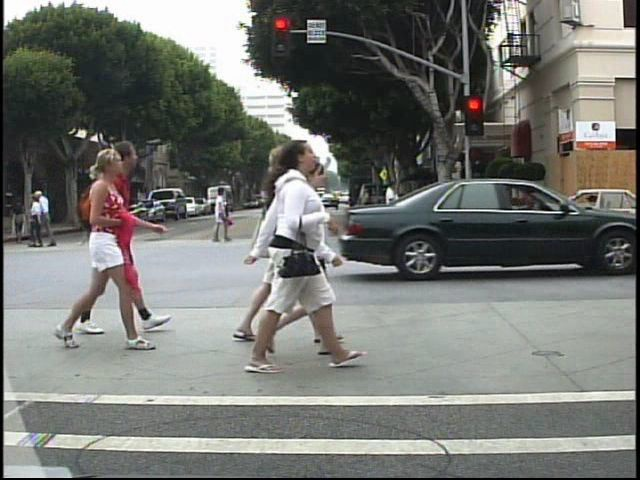person: (52, 146, 146, 355), (256, 136, 337, 378), (290, 159, 367, 372), (230, 146, 308, 354), (107, 139, 157, 336), (380, 177, 408, 240), (37, 185, 59, 250), (210, 184, 231, 246), (270, 184, 292, 242), (26, 195, 49, 250), (359, 187, 374, 223)
